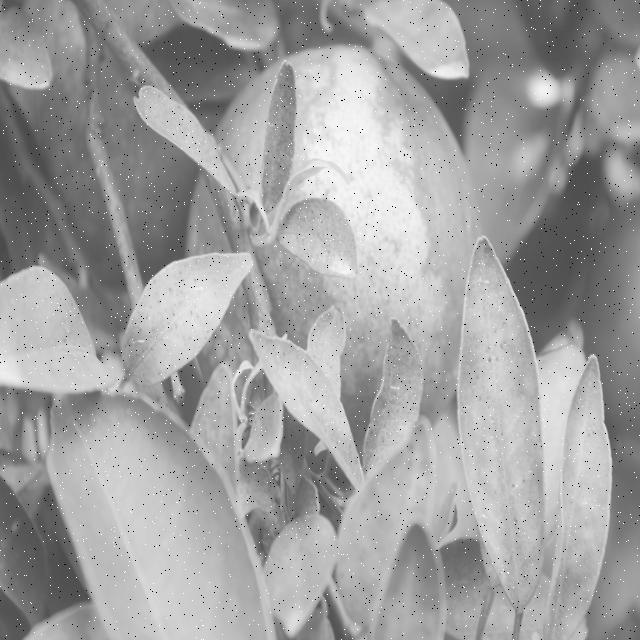blackspot: (452, 263, 544, 581), (262, 338, 361, 478), (121, 248, 228, 374), (353, 339, 421, 468), (288, 201, 354, 273), (264, 68, 295, 208)
